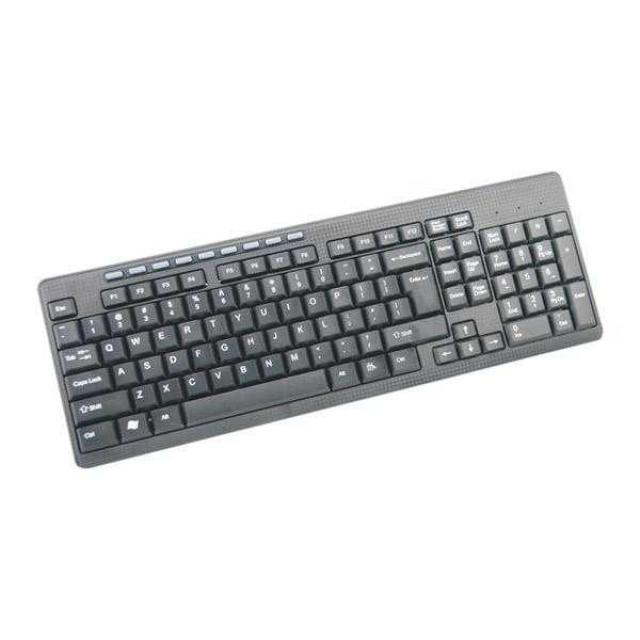keyboard: (37, 165, 608, 474)
